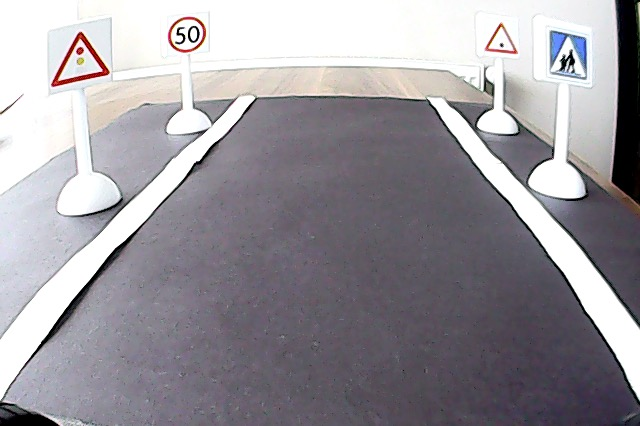green light: (483, 19, 521, 58)
red light: (49, 28, 114, 89)
school crossing: (543, 23, 592, 86)
speed limit 50: (165, 14, 209, 54)
